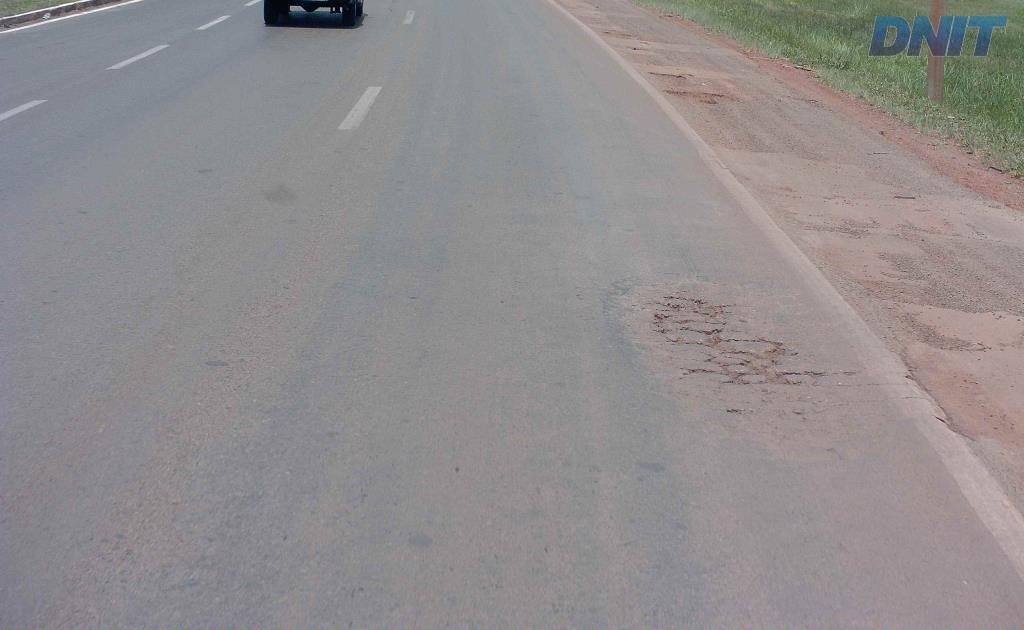crack: (650, 287, 828, 387)
